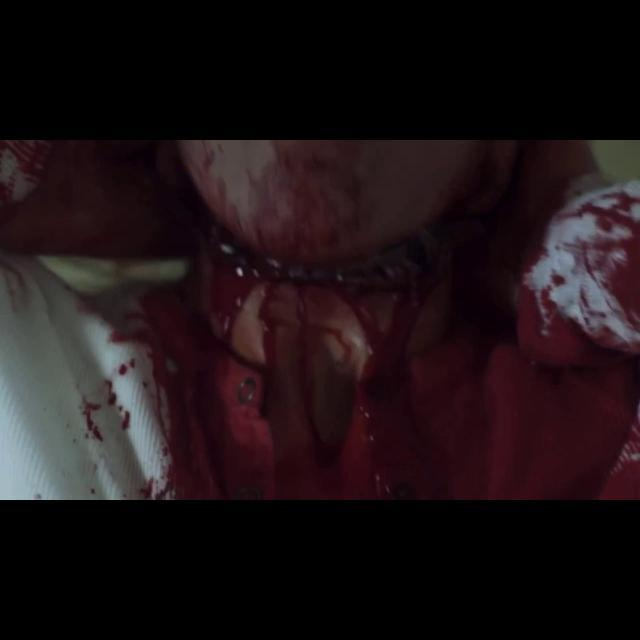blood: (0, 140, 640, 500), (0, 140, 198, 257)
